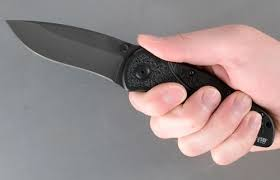knife: (4, 13, 276, 153)
